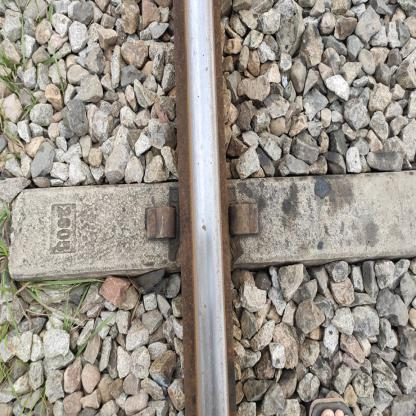Defective 1: (224, 192, 272, 249), (139, 192, 185, 249)
